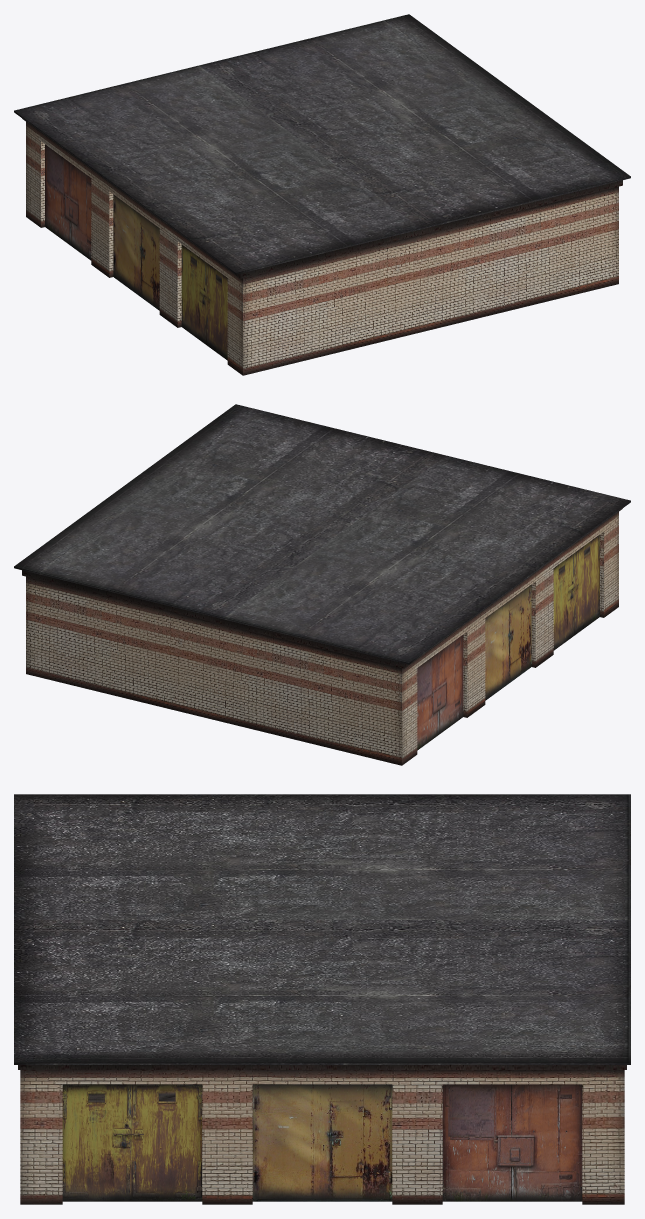
Rendered from d_garage_5.FBX.
3 renders of one model, top to bottom at view 1: azimuth 30°, elevation 25°; view 2: azimuth 150°, elevation 25°; view 3: azimuth 270°, elevation 25°, orthographic. The views are drawn at different scales.
Parts seen in each view (by area): view 1: d_garage_5; view 2: d_garage_5; view 3: d_garage_5.
Part boxes in pixels (x1,y1,x2,y2): d_garage_5: (14, 14, 630, 375); d_garage_5: (14, 404, 630, 765); d_garage_5: (14, 794, 630, 1204).
Size of the model in its own units: 10.02 by 9.74 by 2.59.
